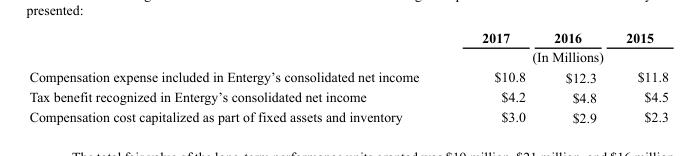table: (28, 29, 667, 125)
table column: (28, 29, 449, 125), (449, 29, 539, 125), (539, 29, 610, 125), (610, 29, 667, 125)
table column header: (28, 29, 667, 66)
table row: (28, 86, 667, 107), (28, 46, 667, 66), (28, 66, 667, 86), (28, 107, 667, 125), (28, 29, 667, 46)
table spanning cell: (449, 46, 667, 66)
